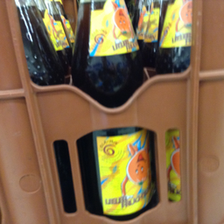soda: (71, 1, 156, 220)
